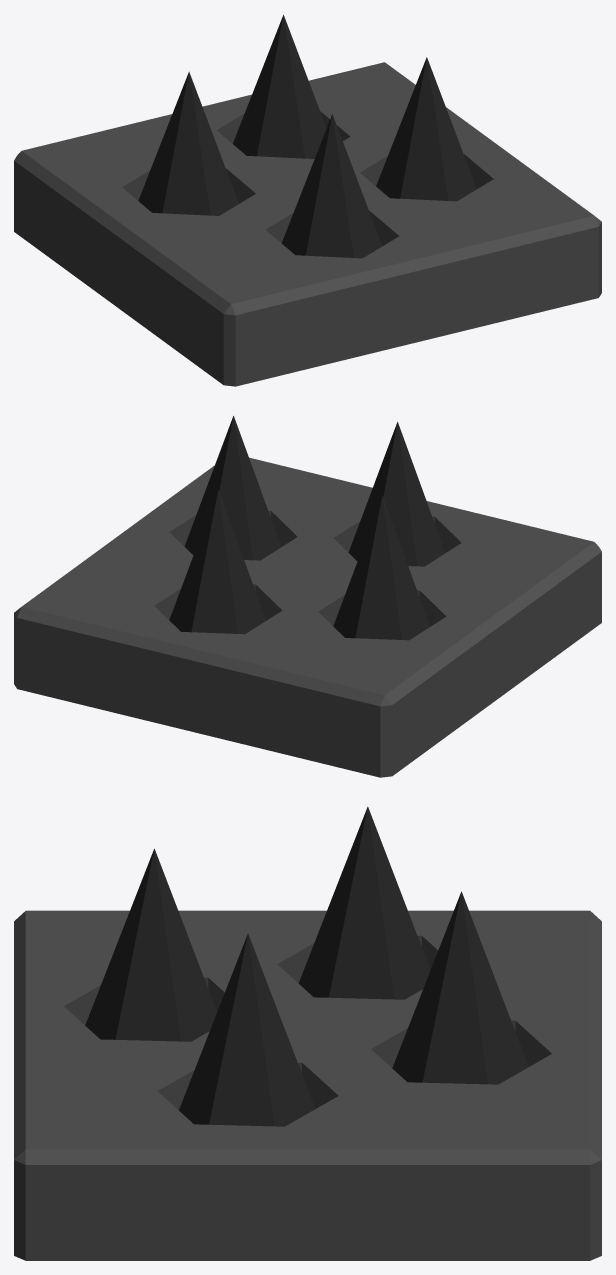
The model's file is HJD_SFB_Hazzard_01.fbx.
3 views of the same model, one above another, from view 1: azimuth 30°, elevation 25°; view 2: azimuth 150°, elevation 25°; view 3: azimuth 270°, elevation 25° (orthographic). The views are drawn at different scales.
Parts seen in each view (by area): view 1: Platform, Spikes; view 2: Platform, Spikes; view 3: Platform, Spikes.
Part boxes in pixels (box(x1,y1,x2,y2)): Platform: box(14, 62, 601, 386); Spikes: box(138, 15, 476, 258); Platform: box(14, 457, 601, 777); Spikes: box(169, 416, 445, 640); Platform: box(14, 910, 601, 1260); Spikes: box(85, 806, 528, 1126).
Bounding box in the file's own units: 100 × 50.1 × 100.
